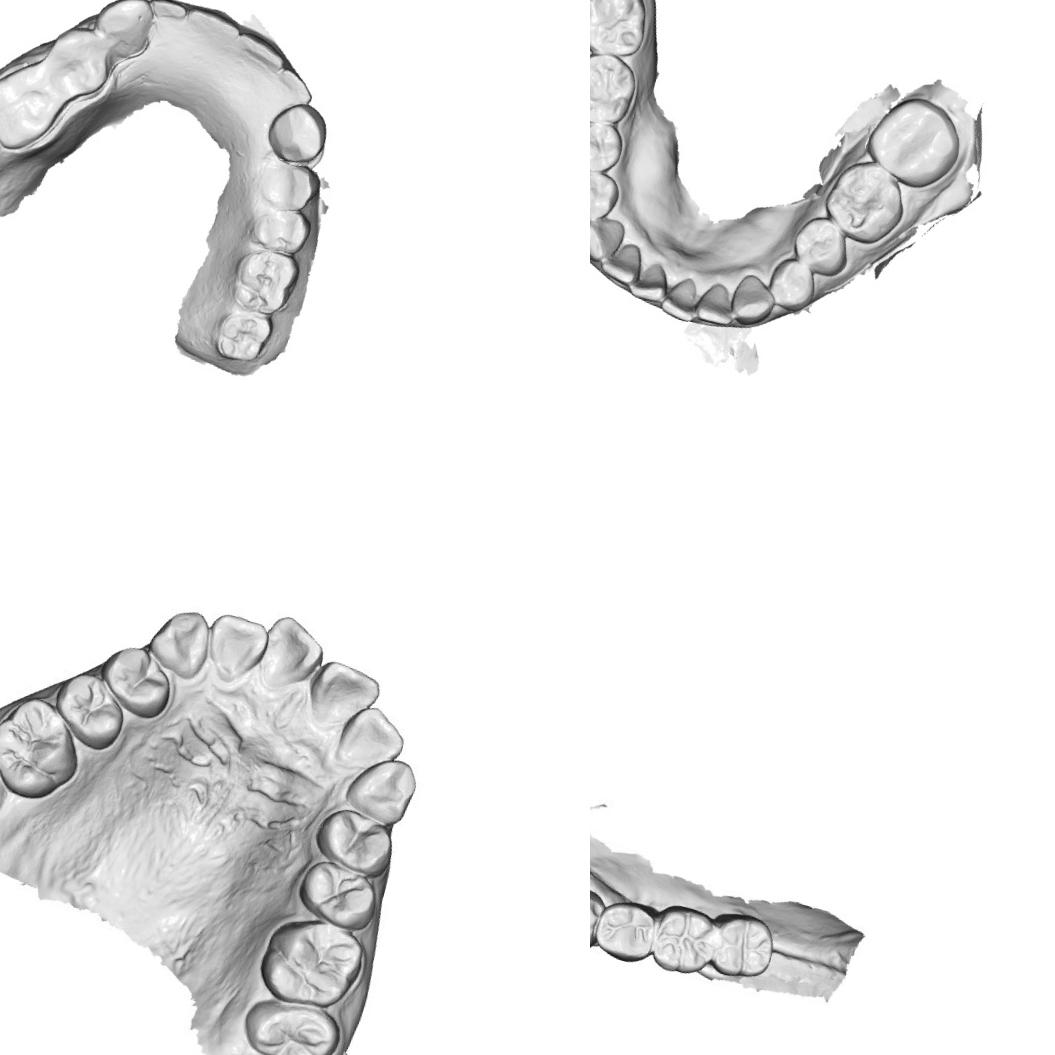canine: (260, 93, 334, 170), (147, 603, 216, 678), (349, 753, 418, 826), (89, 0, 160, 62), (724, 270, 781, 332), (590, 210, 628, 266)
incisor: (331, 705, 407, 786), (304, 660, 382, 738), (250, 609, 322, 692), (202, 608, 268, 682), (176, 0, 246, 69), (226, 16, 291, 90), (266, 56, 318, 117), (690, 276, 742, 328), (596, 236, 647, 288), (656, 270, 704, 324), (625, 256, 673, 306), (136, 0, 188, 42)
molar: (856, 86, 971, 198), (261, 914, 368, 1011), (815, 151, 915, 252), (0, 692, 90, 802), (0, 55, 68, 160), (640, 897, 724, 982), (236, 988, 341, 1055), (698, 904, 782, 986), (222, 240, 304, 322), (590, 42, 643, 137), (209, 302, 276, 368), (590, 0, 658, 65)
premolar: (294, 854, 387, 933), (38, 18, 120, 104), (95, 642, 180, 721), (314, 800, 400, 878), (48, 667, 128, 747), (590, 894, 663, 969), (785, 209, 858, 282), (251, 151, 326, 222), (244, 197, 316, 261), (761, 252, 821, 316), (590, 113, 629, 181), (590, 164, 624, 227), (590, 880, 611, 962)
